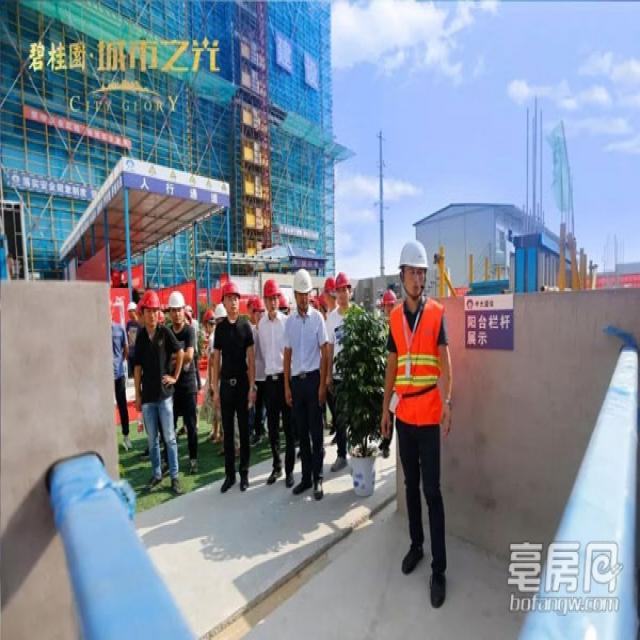Reflective-Jacket: (388, 298, 447, 424)
Safety-Helmet: (397, 237, 431, 270), (292, 266, 313, 292), (141, 288, 160, 310), (335, 268, 352, 290), (222, 280, 241, 298), (262, 275, 278, 296), (168, 290, 185, 308)
